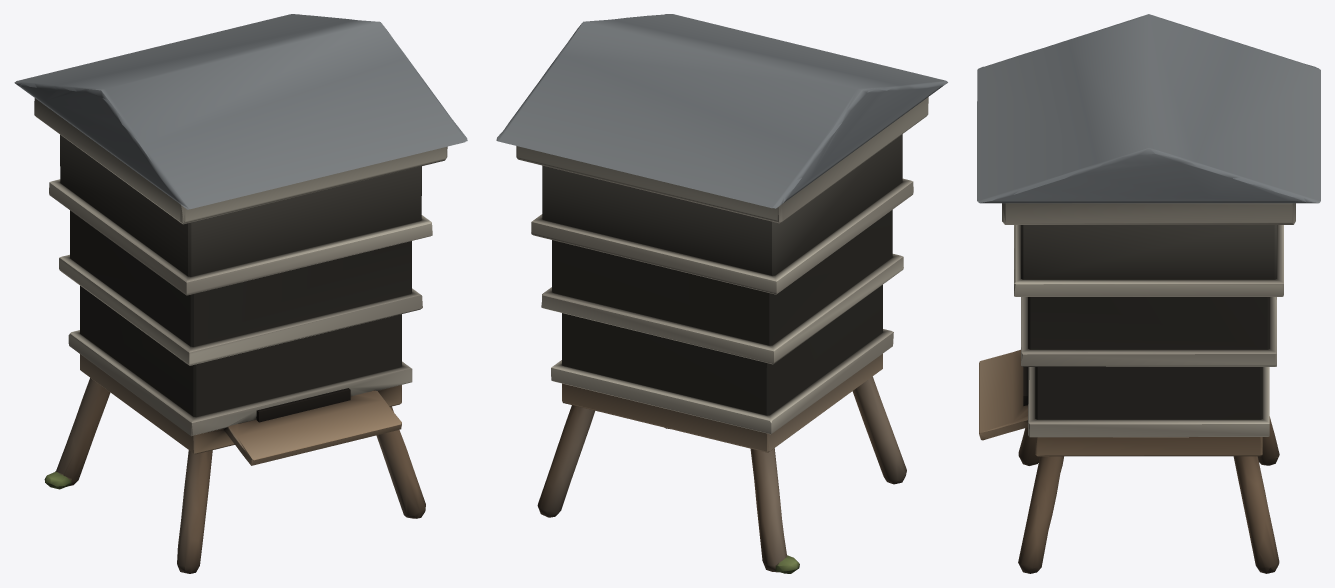
File: lm_hive_box.glb
The picture shows the model from 3 angles, left to right: view 1: azimuth 30°, elevation 25°; view 2: azimuth 150°, elevation 25°; view 3: azimuth 270°, elevation 25°; orthographic projection.
Parts seen in each view (by area): view 1: lm_hive_box_LOD0; view 2: lm_hive_box_LOD0; view 3: lm_hive_box_LOD0.
Boxes of the visible parts, x1=… form: lm_hive_box_LOD0: x1=14, y1=14, x2=467, y2=573; lm_hive_box_LOD0: x1=496, y1=14, x2=947, y2=573; lm_hive_box_LOD0: x1=977, y1=14, x2=1320, y2=573.
Size of what is drawn, in the model's own units: 0.6803 by 1.02 by 0.7255.
